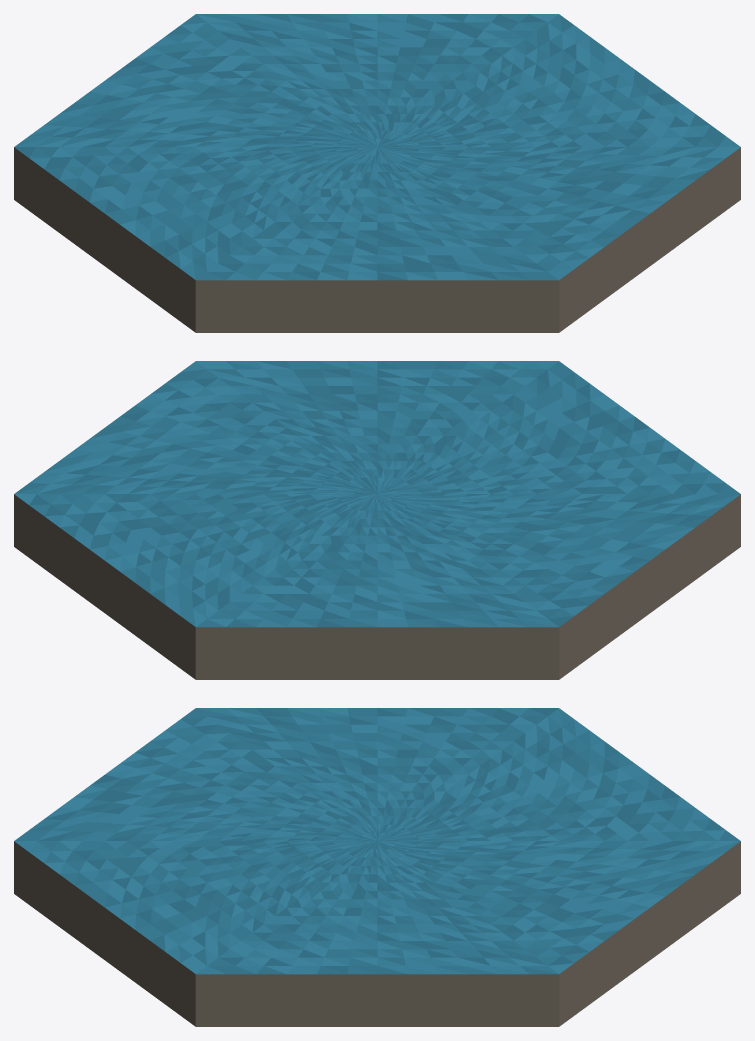
File: TERRAIN_OCEAN_v01.fbx
3 renders of one model, top to bottom at view 1: azimuth 30°, elevation 25°; view 2: azimuth 150°, elevation 25°; view 3: azimuth 270°, elevation 25°, orthographic.
Visible parts, largest first — view 1: TERRAIN_OCEAN_v01; view 2: TERRAIN_OCEAN_v01; view 3: TERRAIN_OCEAN_v01.
Part boxes in pixels (bbox=[...]): TERRAIN_OCEAN_v01: bbox=[14, 14, 740, 332]; TERRAIN_OCEAN_v01: bbox=[14, 361, 740, 679]; TERRAIN_OCEAN_v01: bbox=[14, 708, 740, 1026].
Size of the model in its own units: 173 by 16 by 200.
